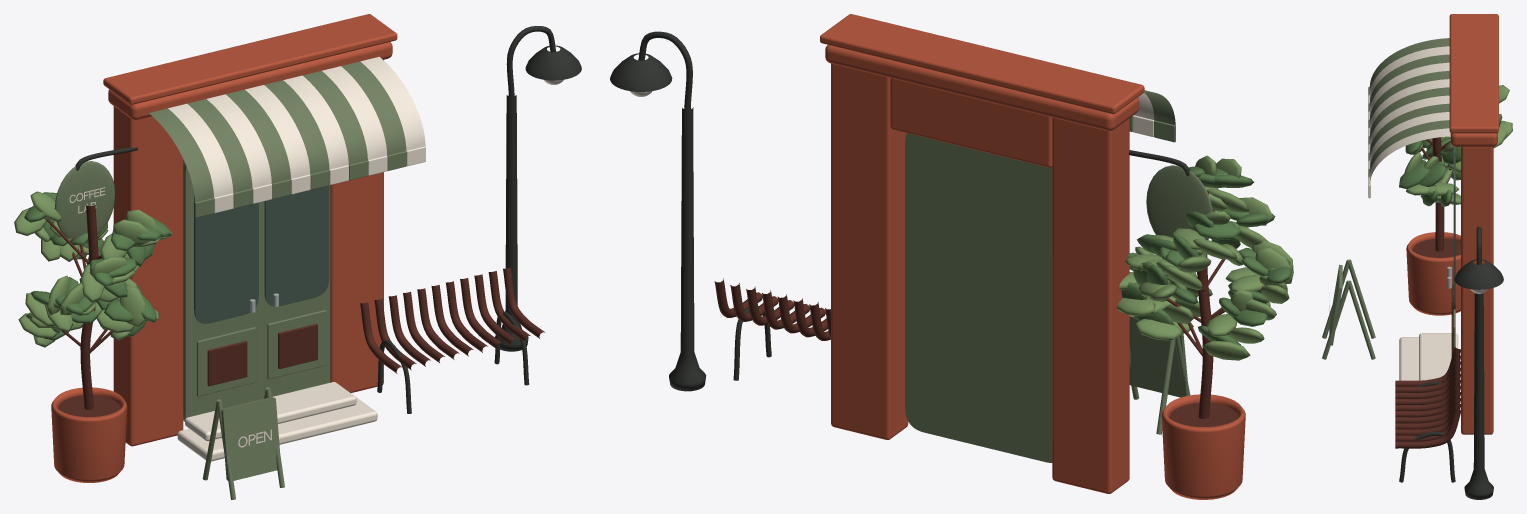
File: garden-corner-kit.glb
3 views of the same model, side by side, from view 1: azimuth 30°, elevation 25°; view 2: azimuth 150°, elevation 25°; view 3: azimuth 270°, elevation 25° (orthographic). The views are drawn at different scales.
Visible parts, largest first — view 1: surface-#B5543A,0,0.7, surface-#6F7F5F,0,0.7, surface-#465A50,0.3,0.2, surface-#5A2E25,0,0.7, surface-6f7f5f (×6), surface-f0e6d8 (×6), surface-#75915C,0,0.7, surface-#F0E6D8,0,0.7, surface-#30332F,0,0.7, surface-#55774A,0,0.7; view 2: surface-#B5543A,0,0.7, surface-#6F7F5F,0,0.7, surface-#75915C,0,0.7, surface-#30332F,0,0.7, surface-#55774A,0,0.7, surface-#5A2E25,0,0.7; view 3: surface-#B5543A,0,0.7, surface-#5A2E25,0,0.7, surface-#30332F,0,0.7, surface-f0e6d8 (×6), surface-6f7f5f (×6), surface-#F0E6D8,0,0.7, surface-#6F7F5F,0,0.7, surface-#55774A,0,0.7, surface-#75915C,0,0.7, surface-#465A50,0.3,0.2.
Part boxes in pixels (box(x1,y1,x2,y2)): surface-#B5543A,0,0.7: box(51, 14, 397, 482); surface-#6F7F5F,0,0.7: box(54, 151, 406, 499); surface-#465A50,0.3,0.2: box(194, 185, 329, 323); surface-#5A2E25,0,0.7: box(46, 204, 544, 420); surface-6f7f5f (×6): box(149, 61, 406, 202); surface-f0e6d8 (×6): box(168, 56, 425, 197); surface-#75915C,0,0.7: box(14, 191, 172, 347); surface-#F0E6D8,0,0.7: box(69, 79, 563, 461); surface-#30332F,0,0.7: box(75, 26, 581, 413); surface-#55774A,0,0.7: box(24, 192, 171, 340); surface-#B5543A,0,0.7: box(820, 14, 1245, 499); surface-#6F7F5F,0,0.7: box(905, 116, 1212, 462); surface-#75915C,0,0.7: box(1117, 155, 1293, 360); surface-#30332F,0,0.7: box(610, 31, 1190, 391); surface-#55774A,0,0.7: box(1121, 166, 1292, 345); surface-#5A2E25,0,0.7: box(714, 191, 1263, 426); surface-#B5543A,0,0.7: box(1406, 14, 1498, 434); surface-#5A2E25,0,0.7: box(1395, 137, 1461, 448); surface-#30332F,0,0.7: box(1399, 226, 1503, 499); surface-f0e6d8 (×6): box(1369, 46, 1450, 183); surface-6f7f5f (×6): box(1369, 38, 1449, 175); surface-#F0E6D8,0,0.7: box(1329, 95, 1488, 380); surface-#6F7F5F,0,0.7: box(1322, 87, 1455, 359); surface-#55774A,0,0.7: box(1399, 114, 1502, 206); surface-#75915C,0,0.7: box(1404, 85, 1512, 204); surface-#465A50,0.3,0.2: box(1453, 146, 1455, 309).
Size of the model in its own units: 5.94 by 3.48 by 1.93.
